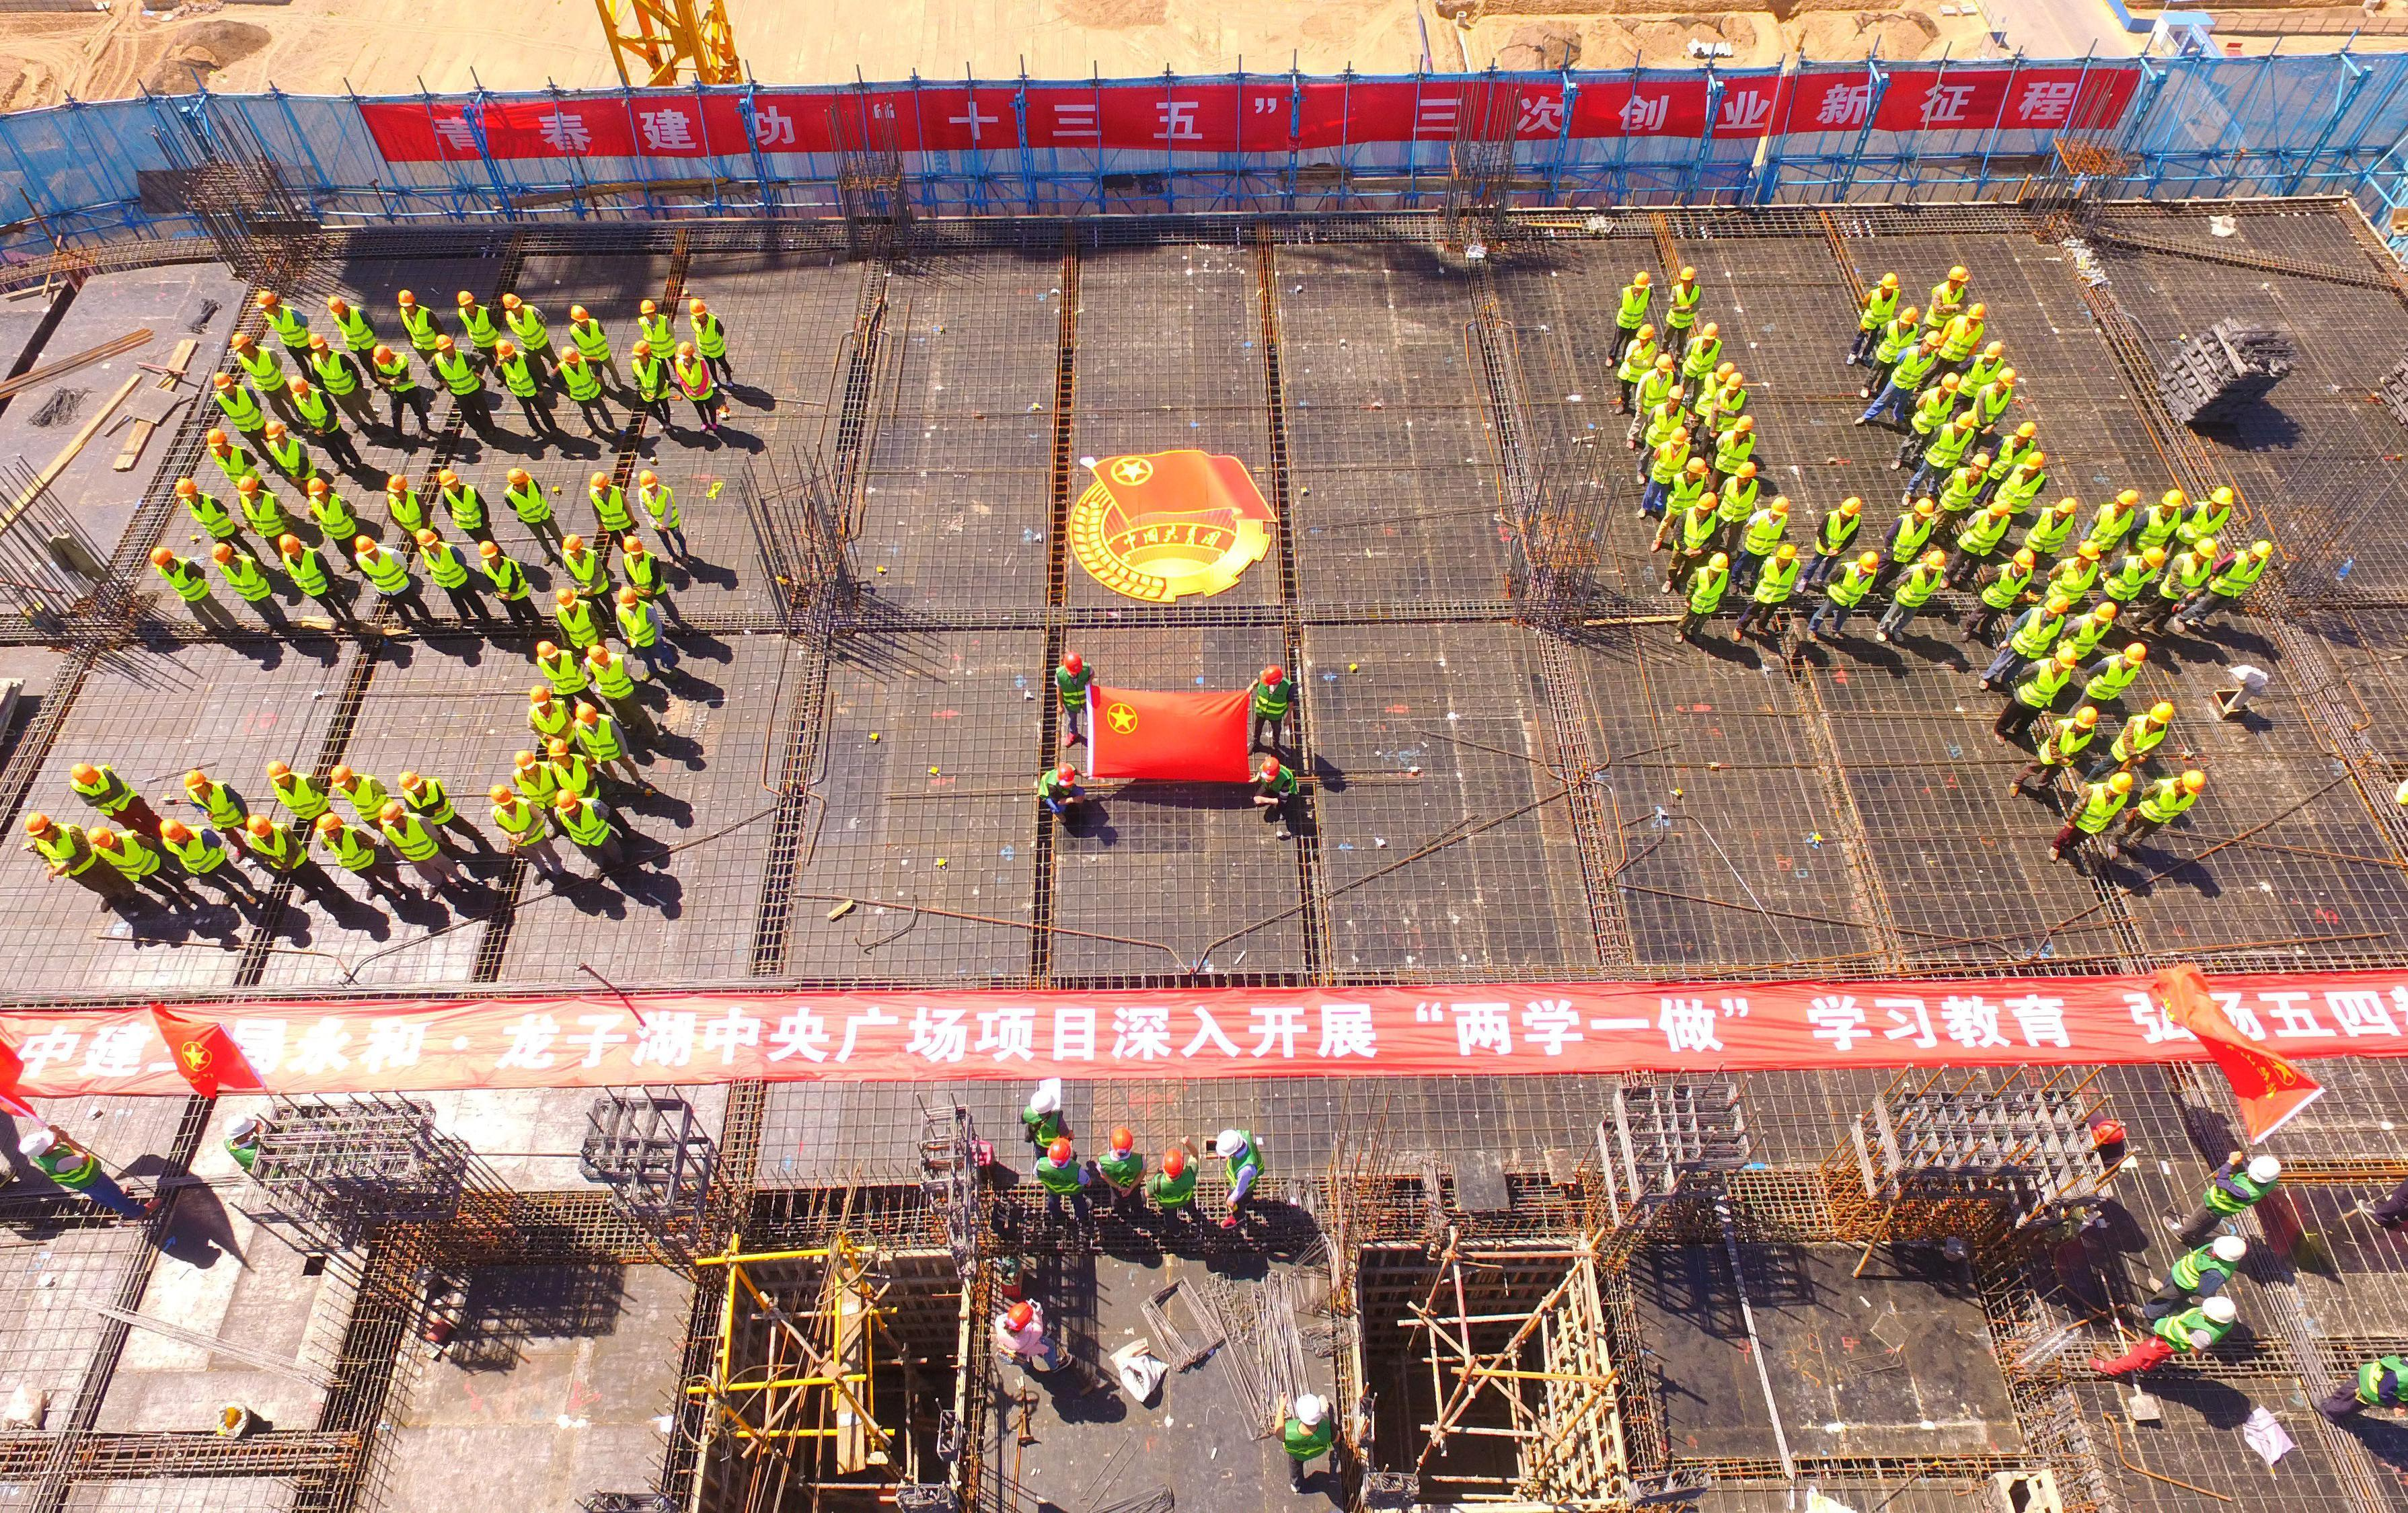helmet: (2246, 1156, 2282, 1187), (1296, 1393, 1323, 1429), (19, 1133, 56, 1161), (2204, 1295, 2237, 1325), (221, 1116, 258, 1142), (2092, 1121, 2129, 1145), (1006, 1300, 1034, 1332), (1046, 1138, 1074, 1168), (1217, 1130, 1245, 1159), (2214, 1236, 2246, 1262), (24, 811, 52, 838), (89, 823, 117, 851), (265, 758, 293, 786), (160, 818, 190, 842), (1111, 1128, 1135, 1157), (1163, 1149, 1187, 1178), (248, 814, 274, 840), (71, 762, 99, 786), (330, 765, 354, 791), (2181, 769, 2206, 795), (2150, 701, 2176, 725), (2143, 547, 2167, 572), (490, 784, 516, 807), (1062, 652, 1085, 678), (1031, 1091, 1057, 1114), (2122, 643, 2148, 666), (378, 804, 403, 826), (2110, 770, 2134, 793), (2075, 706, 2099, 729), (1261, 756, 1282, 783), (575, 704, 598, 727), (2056, 648, 2078, 671), (556, 790, 577, 814), (588, 645, 612, 666), (385, 474, 410, 495), (150, 547, 174, 568), (1057, 763, 1078, 788), (1261, 666, 1285, 687), (2045, 594, 2070, 615), (2077, 540, 2101, 561), (183, 770, 206, 791), (530, 685, 551, 708), (537, 640, 560, 661), (622, 535, 645, 556), (417, 528, 439, 549), (279, 535, 302, 556), (213, 544, 234, 567), (237, 476, 260, 497), (1733, 415, 1756, 436), (1840, 497, 1862, 518), (1859, 553, 1880, 575), (1915, 497, 1935, 519), (2014, 547, 2035, 570), (2195, 539, 2218, 560), (399, 772, 424, 791), (514, 751, 539, 770), (1686, 457, 1711, 476), (1695, 492, 1719, 511), (2160, 490, 2185, 509), (2211, 488, 2235, 507), (506, 469, 532, 486), (549, 739, 570, 760), (556, 589, 577, 610), (213, 371, 234, 392), (1632, 270, 1653, 291), (1716, 363, 1737, 383), (1709, 553, 1730, 573), (1925, 551, 1946, 572), (2253, 540, 2274, 561), (354, 537, 377, 556), (176, 479, 199, 499), (265, 420, 288, 439), (495, 338, 518, 357), (2094, 603, 2117, 622), (1988, 500, 2012, 518), (2056, 497, 2080, 514), (589, 472, 610, 492), (638, 471, 659, 490), (207, 431, 228, 450), (232, 333, 253, 352), (373, 345, 392, 366), (502, 293, 523, 312), (570, 305, 591, 324), (1724, 373, 1745, 392), (1772, 497, 1791, 518), (1942, 373, 1962, 394), (1955, 411, 1976, 431), (2024, 451, 2045, 471), (307, 479, 330, 497), (1735, 462, 1758, 479), (2016, 422, 2038, 439), (2117, 490, 2139, 507), (619, 587, 638, 607), (480, 540, 499, 560), (439, 469, 459, 488), (436, 335, 455, 354), (1702, 324, 1721, 343), (256, 291, 277, 309), (631, 340, 652, 357), (1636, 324, 1656, 342), (1777, 544, 1798, 561), (1967, 303, 1988, 321), (563, 535, 582, 553), (309, 333, 328, 350), (289, 377, 309, 394), (328, 296, 347, 314), (398, 289, 415, 309), (677, 342, 696, 359), (1656, 354, 1676, 371), (1667, 385, 1686, 403), (1899, 309, 1918, 326), (1984, 342, 2003, 359), (1972, 453, 1991, 471), (1949, 267, 1970, 282), (563, 347, 581, 364), (690, 300, 708, 317), (1881, 274, 1899, 291), (1672, 427, 1688, 446), (457, 291, 474, 307), (640, 300, 656, 317), (1925, 331, 1942, 347), (1681, 267, 1697, 282)
